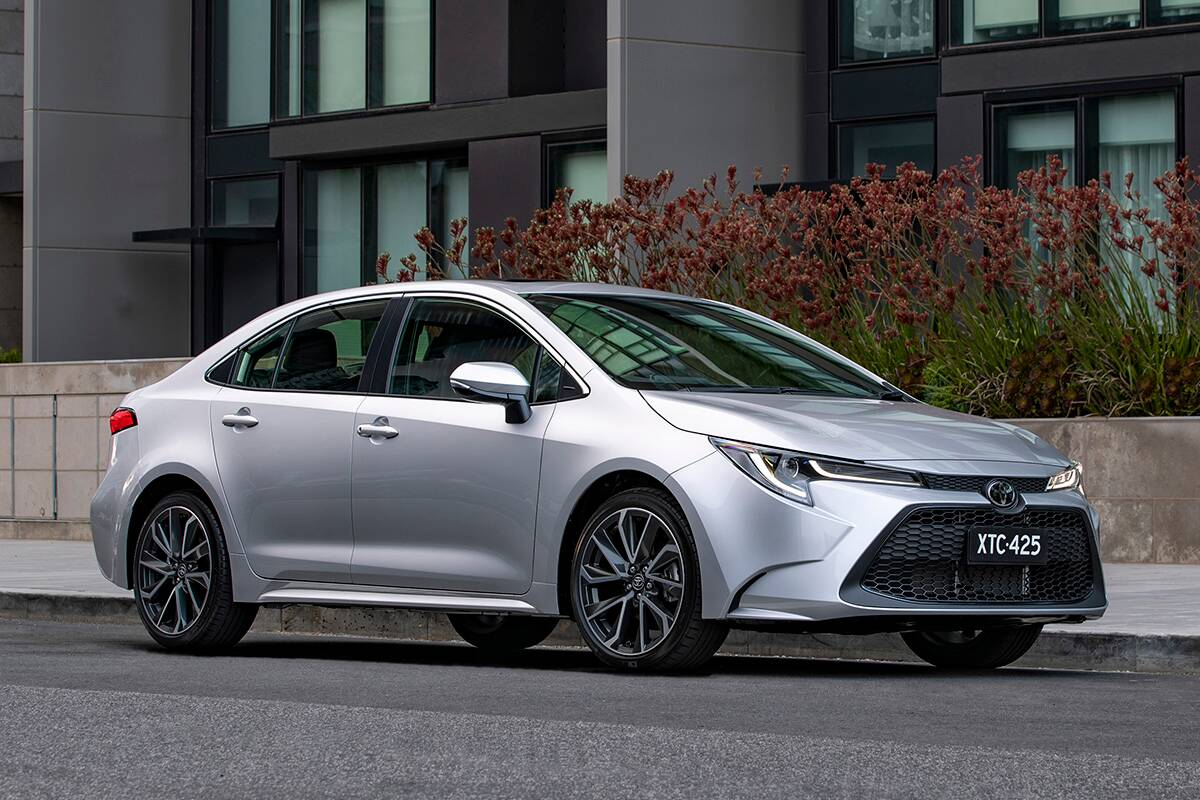car: (88, 279, 1108, 678)
